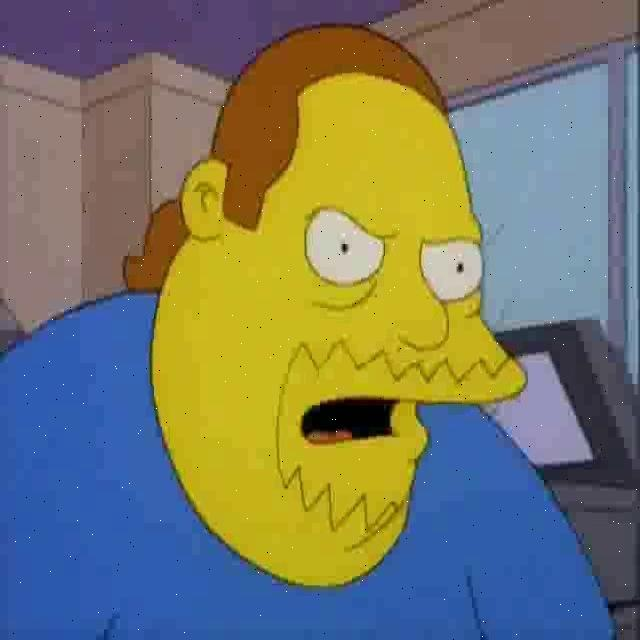Comic Book Guy: (120, 18, 532, 596)
